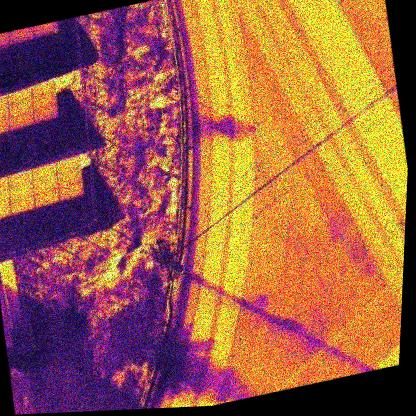Hotspot: (32, 21, 59, 38)
Normal: (58, 182, 86, 203), (32, 176, 60, 195), (33, 189, 61, 208), (8, 196, 36, 215), (5, 87, 33, 106), (54, 156, 81, 175), (30, 79, 57, 98), (7, 170, 33, 189), (8, 112, 35, 130), (31, 163, 58, 181), (8, 182, 35, 200), (8, 26, 35, 44), (31, 93, 58, 111), (56, 170, 84, 187), (32, 106, 59, 123), (7, 100, 34, 117), (0, 189, 12, 208), (0, 202, 12, 221), (0, 30, 11, 50), (0, 118, 10, 136), (0, 106, 10, 124), (0, 175, 9, 193), (0, 93, 9, 111)
